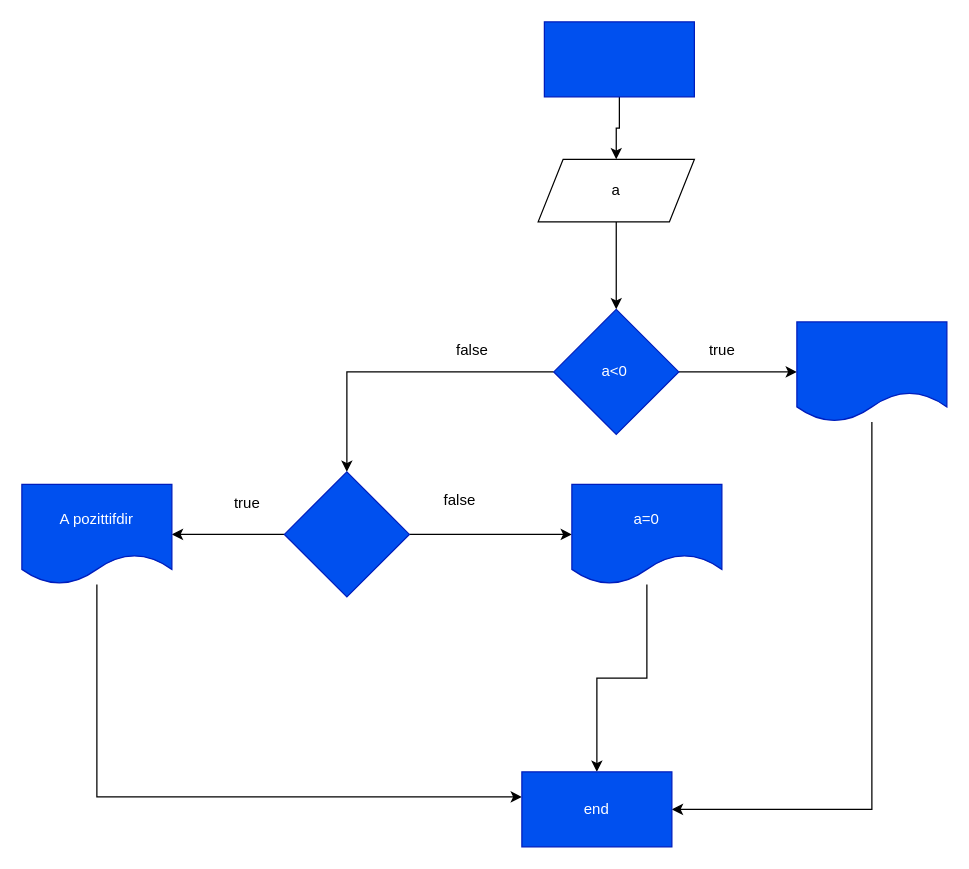
The diagram is 969 pixels wide and 869 high, and some of its shapes have lost their labels. The shapes that lost their labels are listed below. From the top down, each one's centre as x and y in pixels, then its label:
the point at 618,59: Start
the point at 871,371: a negatifdir
the point at 346,534: a>0
